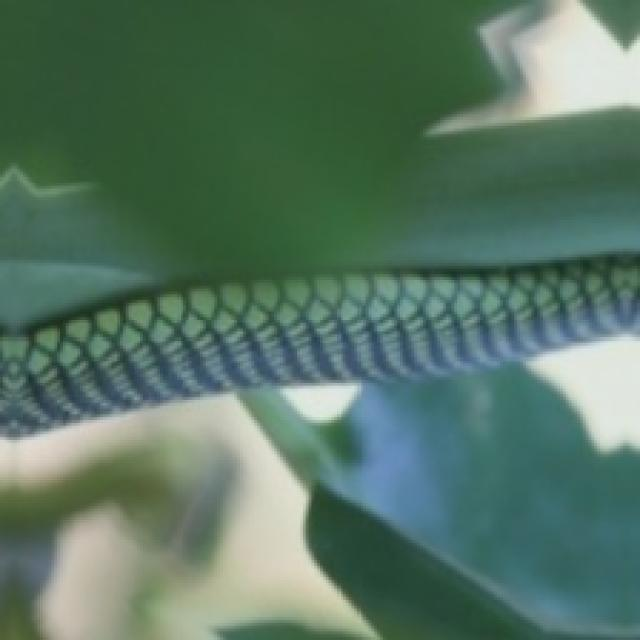paradise tree snake: (0, 254, 637, 434)
